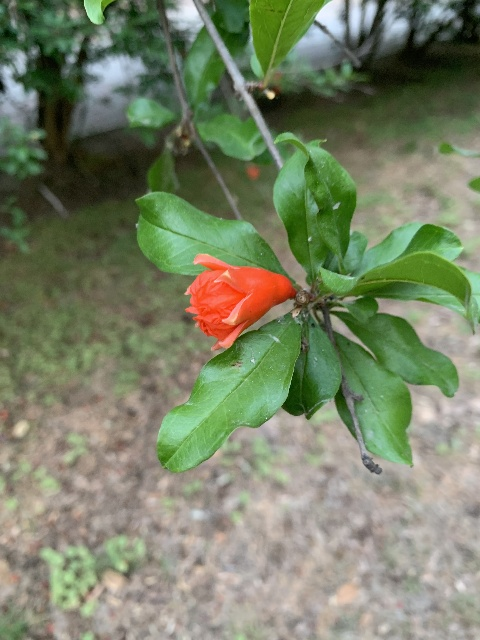flower: (183, 253, 295, 349)
